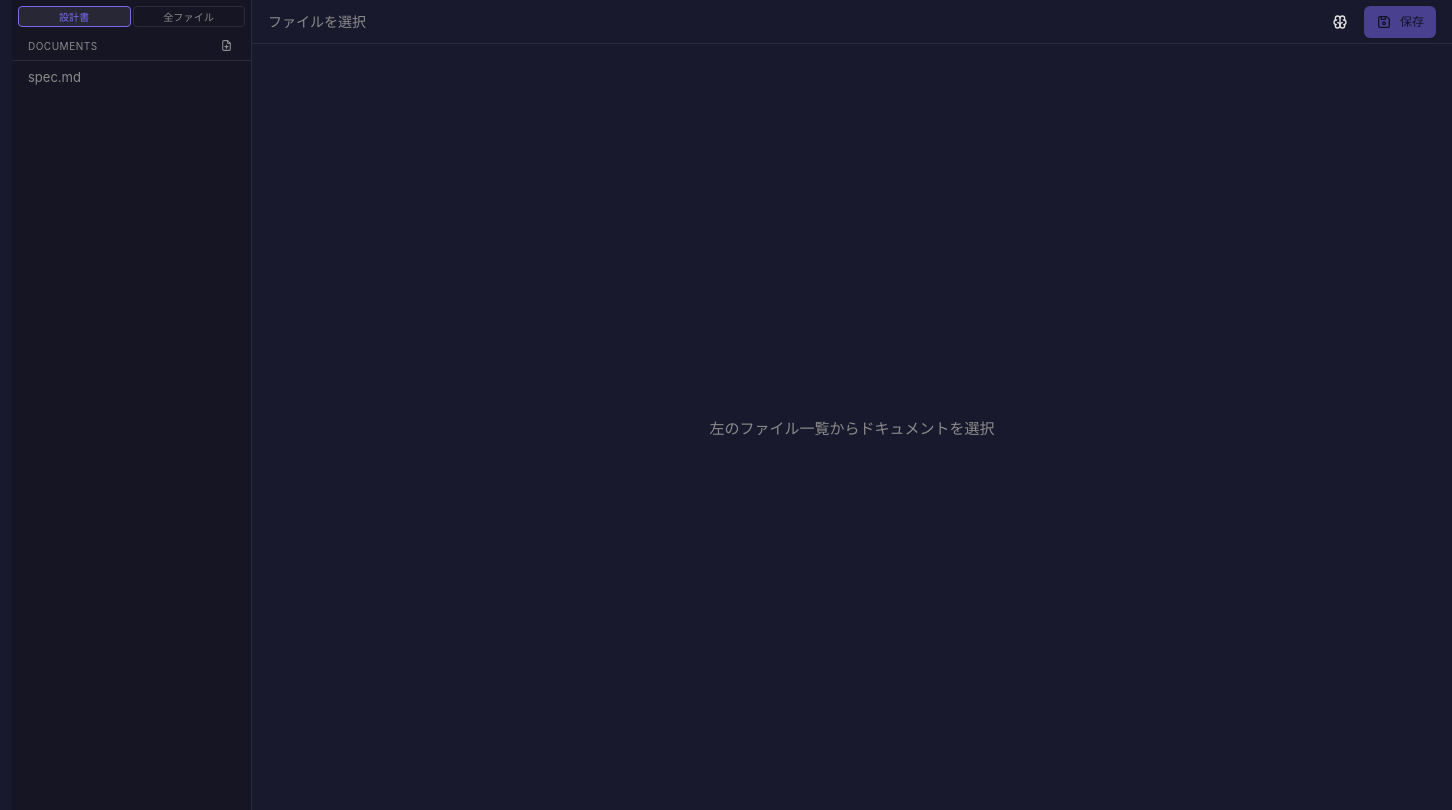
Test: EditorScreen — ファイルツリー・作成・リネーム › 「設計書」に戻すと設計書一覧が表示される
Click the button "全ファイル": (189, 16) 132,6 -> 245,27
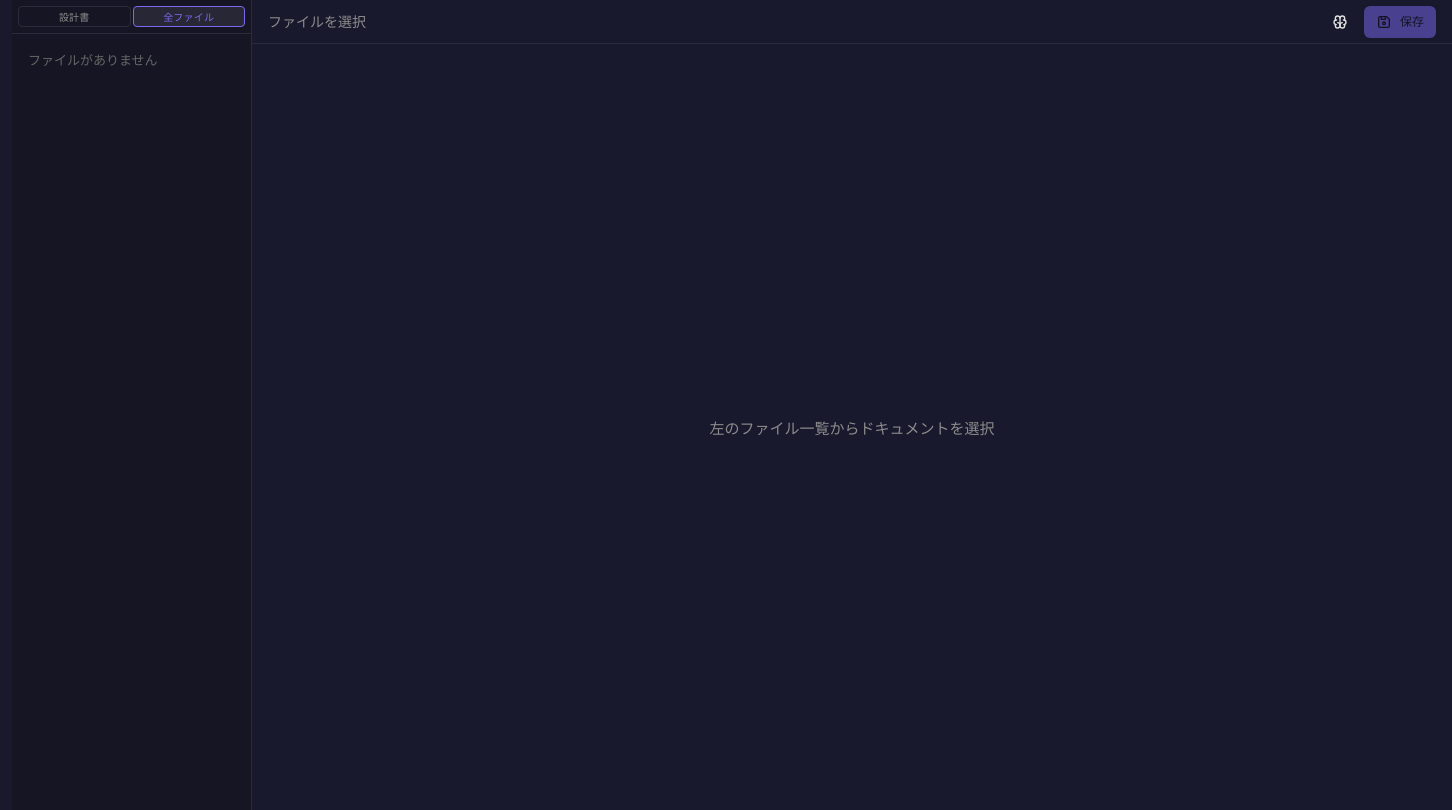
Click the button "設計書": (74, 16) 18,6 -> 130,27
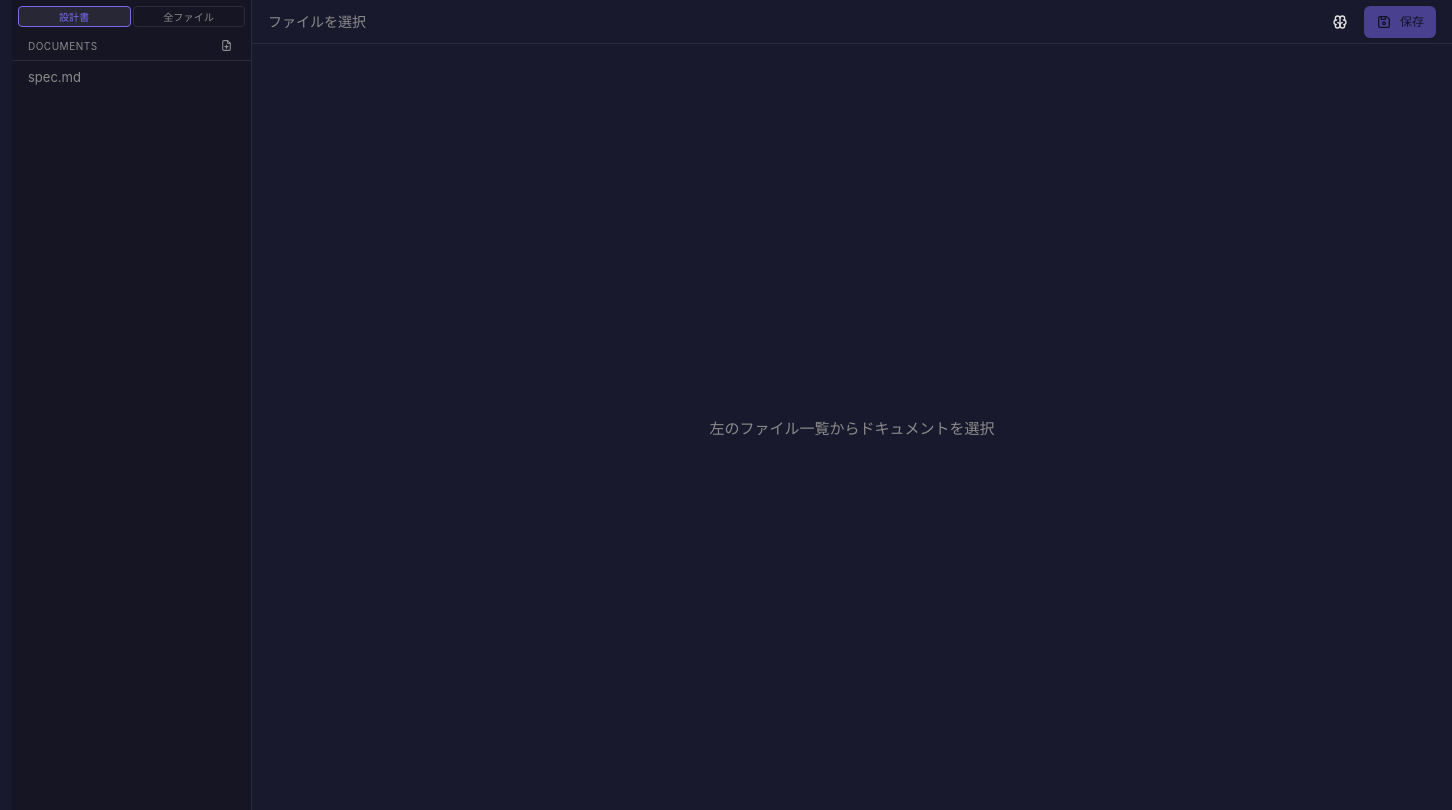
Now the button "spec.md" is shown, box 14,61 -> 224,93
